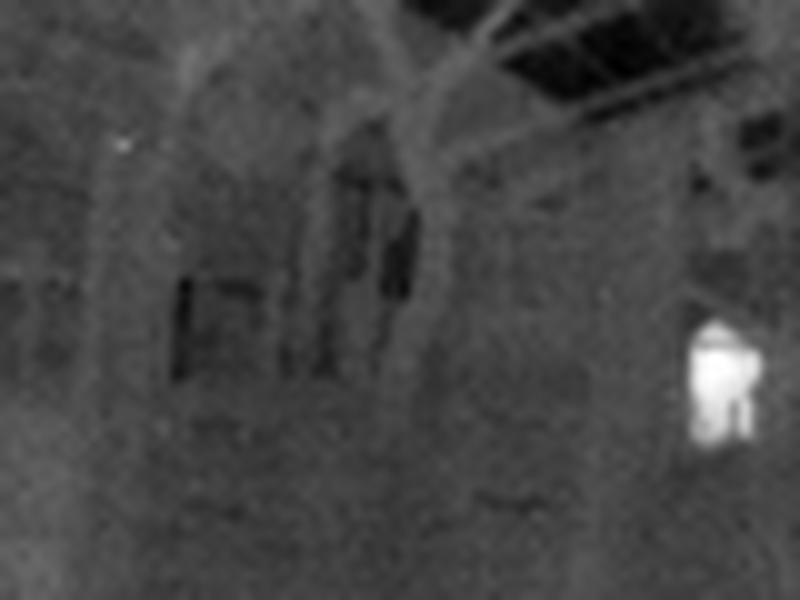elephant: (675, 310, 769, 456)
